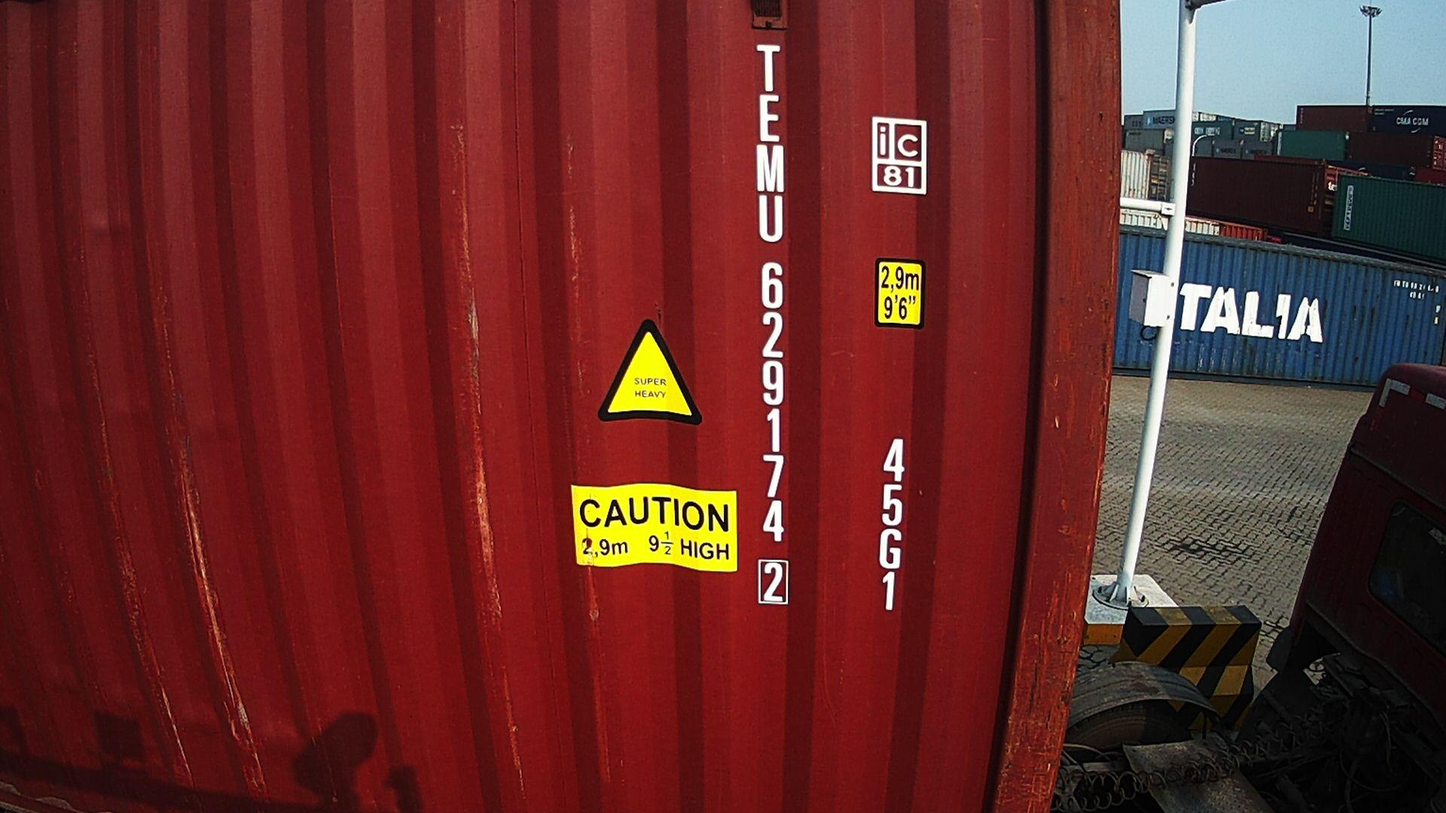container-numbers: (749, 35, 797, 618), (874, 434, 911, 617)
